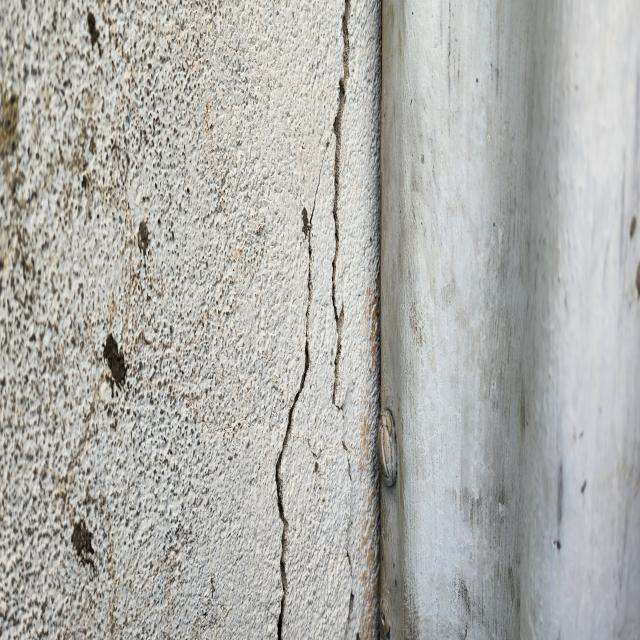SurfaceCrack: (235, 0, 442, 639)
